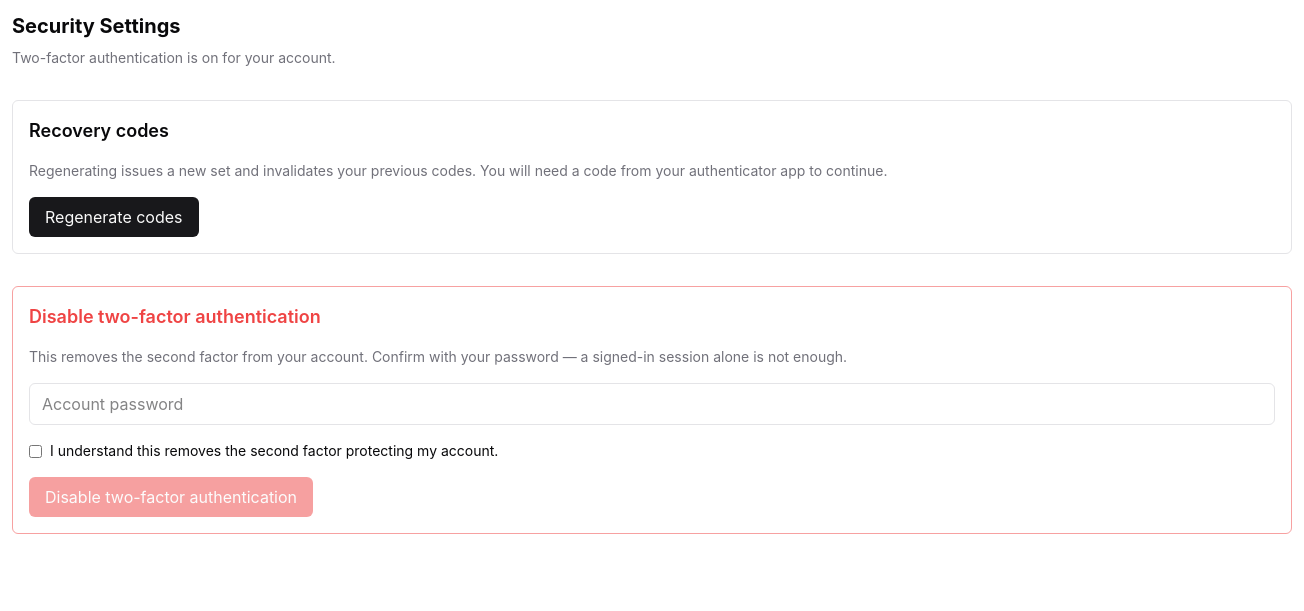
it: SecuritySettingsPage recovery-code regeneration › renders fresh codes and states the old ones stop working
Click the button "Regenerate codes". click: click(114, 217)
box: x1=29 y1=197 x2=198 y2=237
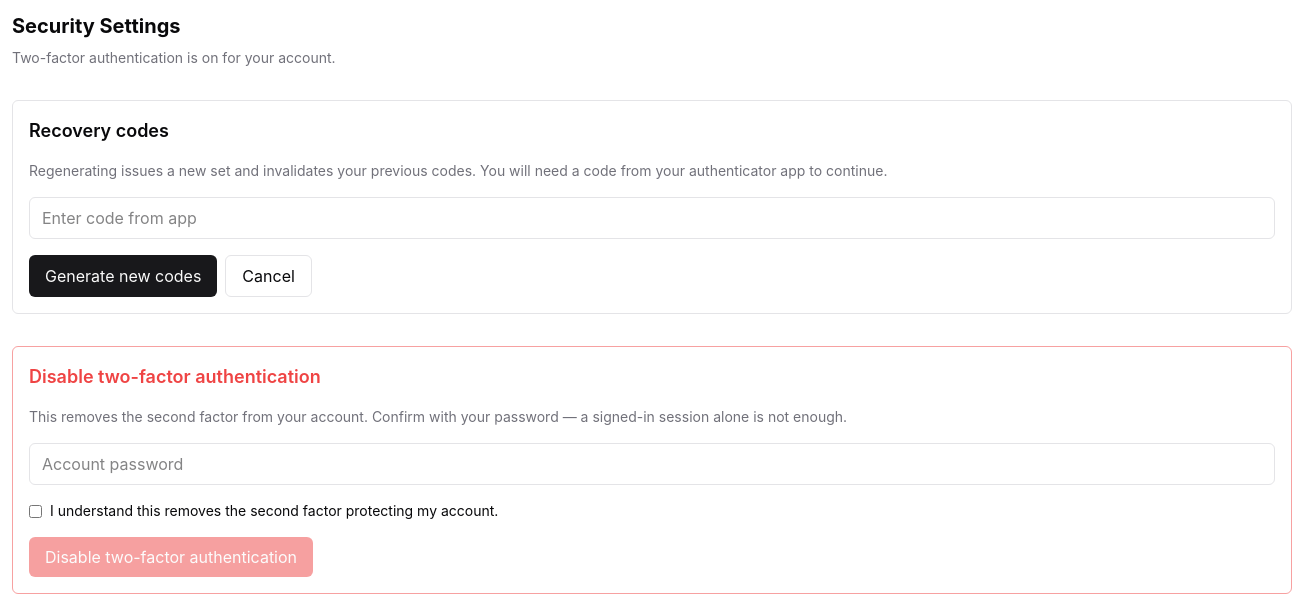
Type "654321" into the field with placeholder "Enter code from app". click: (652, 218)
box: x1=29 y1=197 x2=1275 y2=239
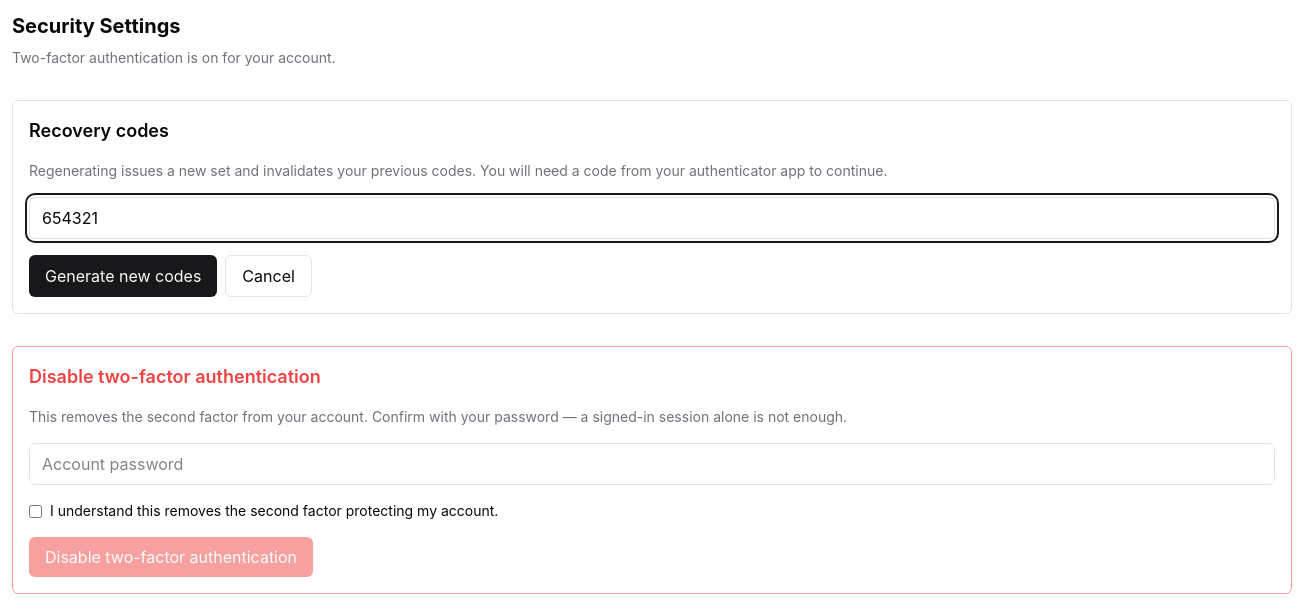
Click the button "Generate new codes". click: click(123, 276)
box: x1=29 y1=255 x2=217 y2=297
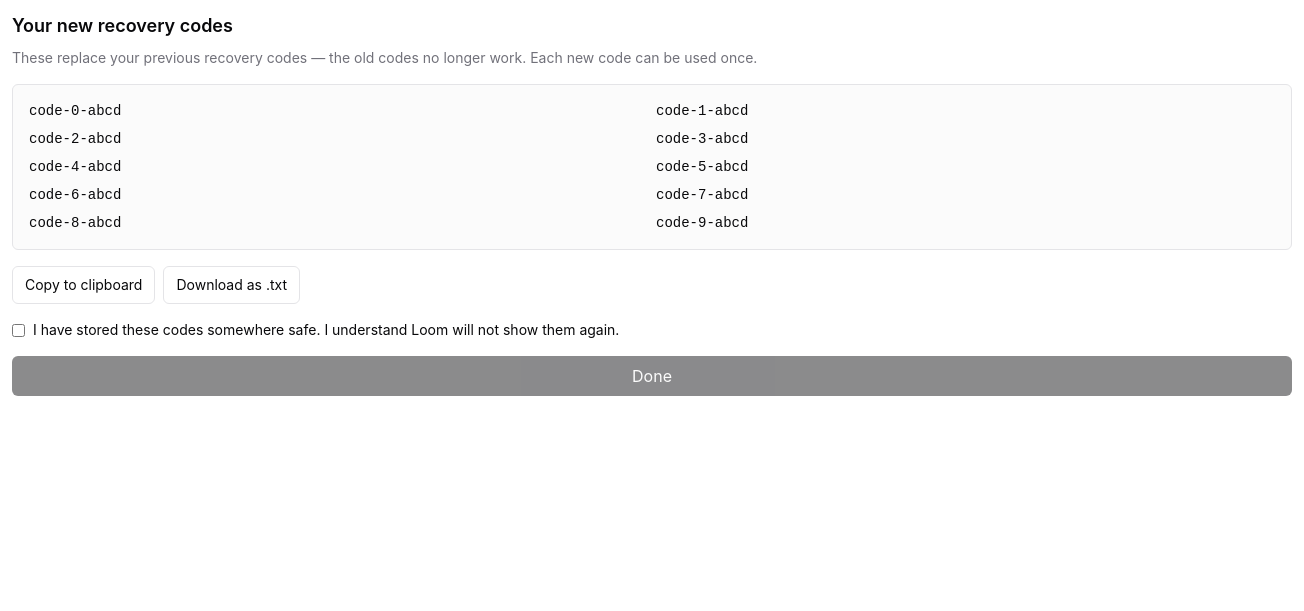
Expected: the number of list items with test id "recovery-code" is 10
Expected: the text "old codes no longer work" is shown, x1=12 y1=49 x2=757 y2=66
